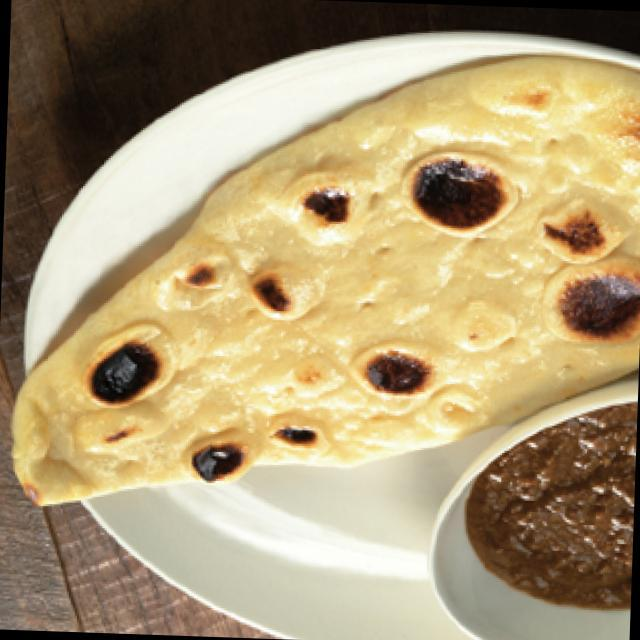Beef Curry: (474, 425, 636, 610)
